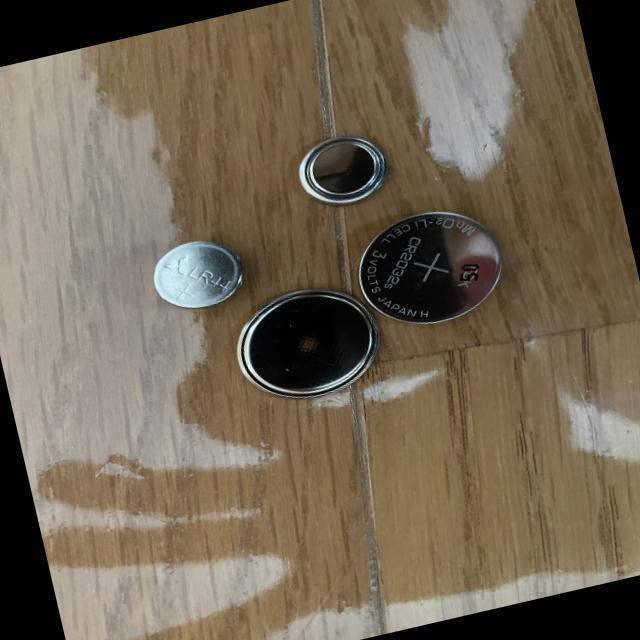COIN: (346, 192, 516, 338), (222, 271, 392, 414), (288, 120, 397, 218), (142, 224, 254, 318)
